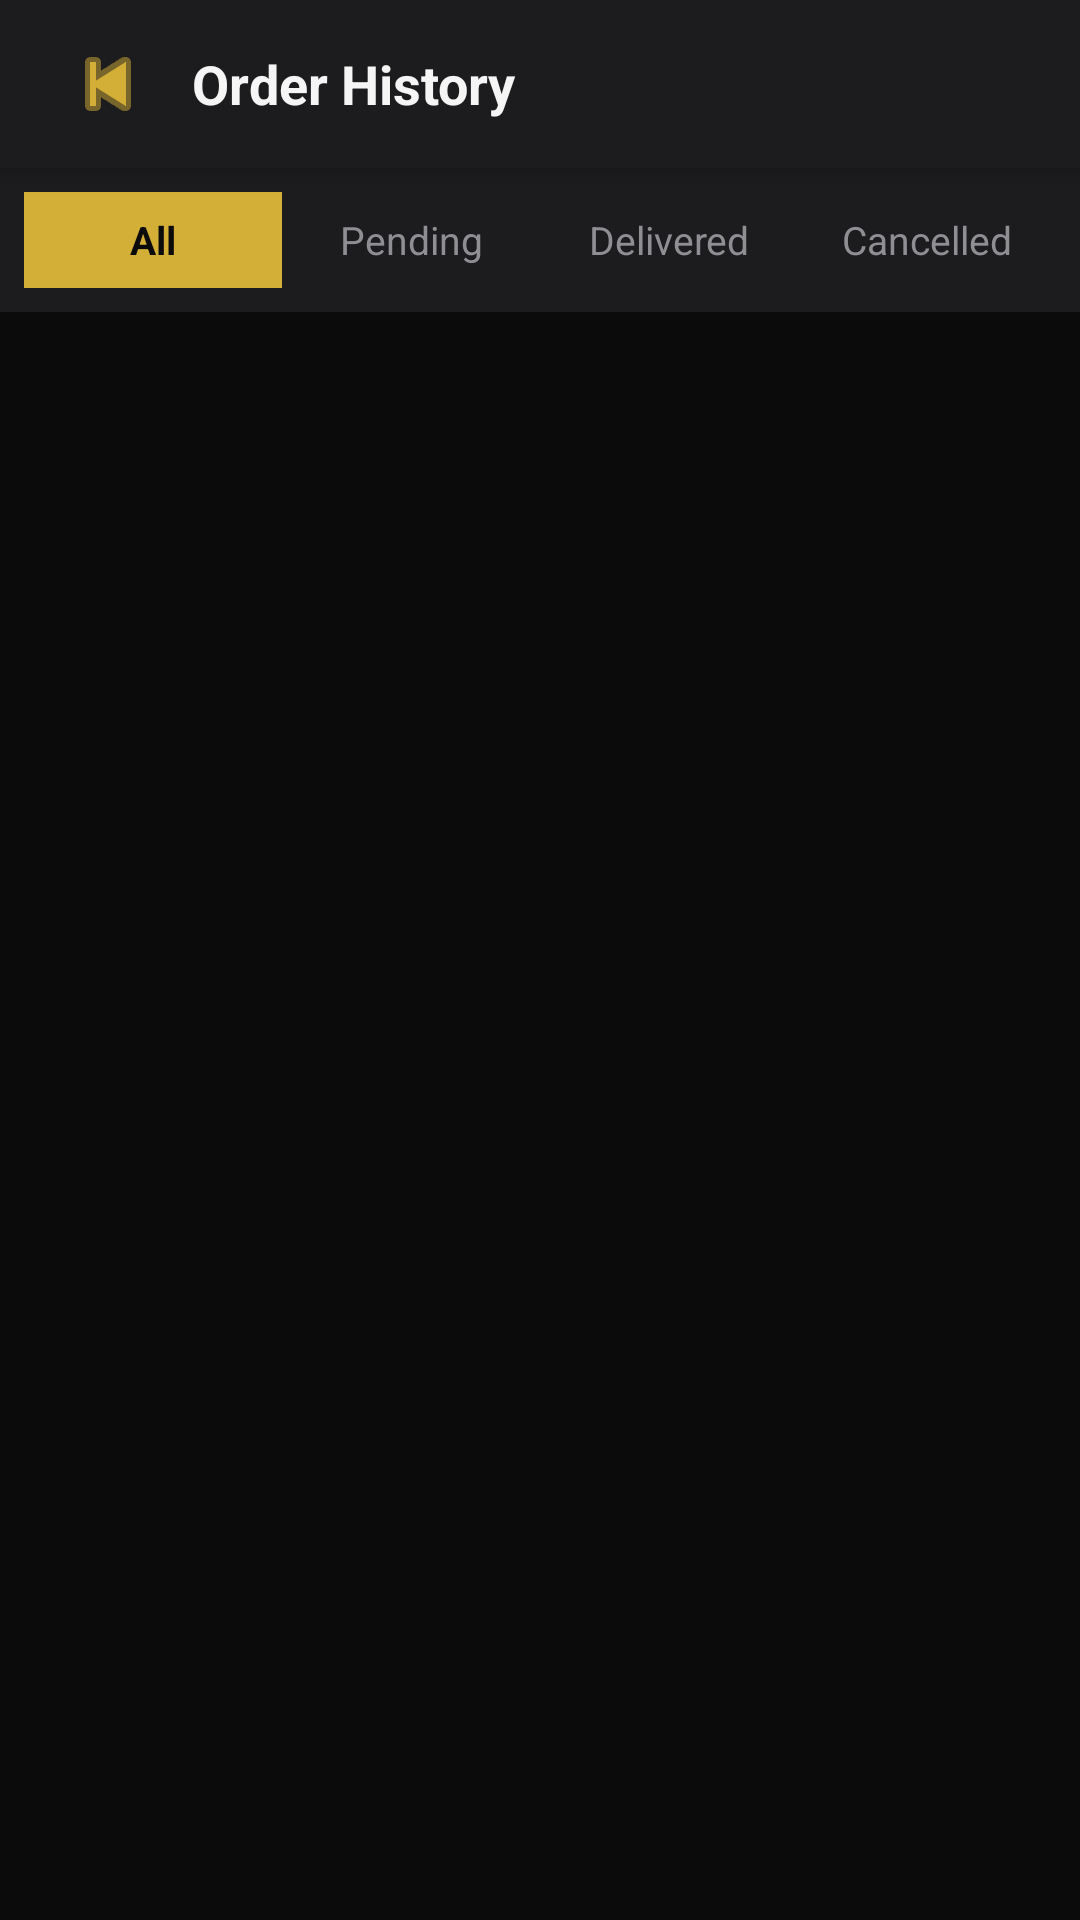

Icon bounding boxes for this 1080×1920 phone screenshot, format (x1, y1, x2, y2):
Back: (85, 57, 131, 111)
